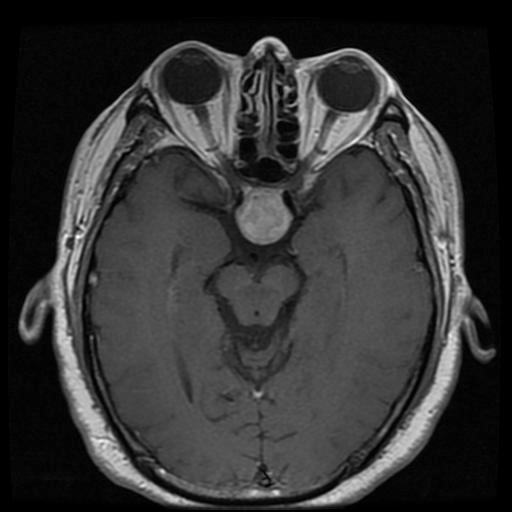Tumour-Pituitary: (232, 182, 305, 248)
